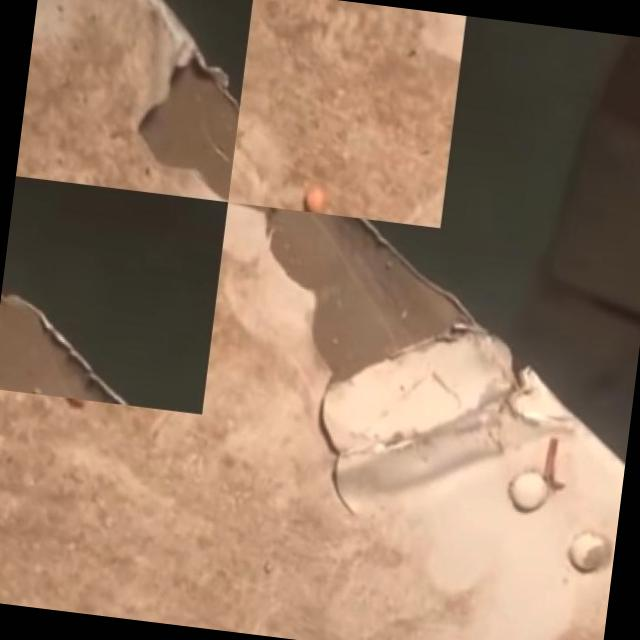crack: (254, 360, 388, 510)
